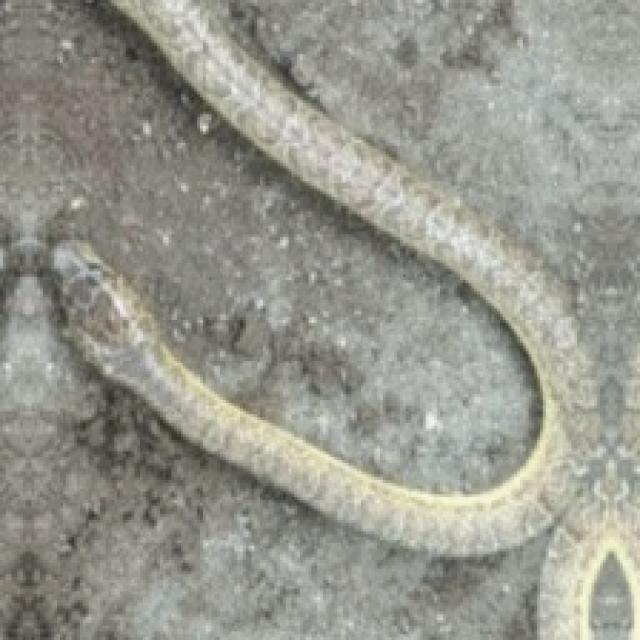mullers wolf snake: (0, 0, 551, 637), (580, 266, 637, 397)
